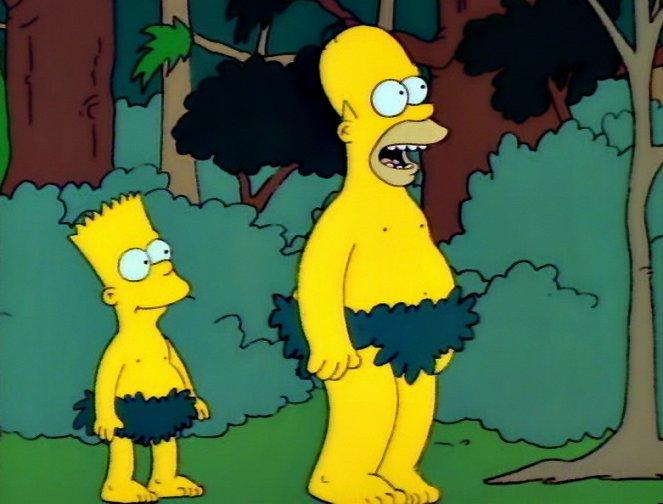Bart: (40, 187, 249, 504)
Homer: (283, 18, 477, 504)
